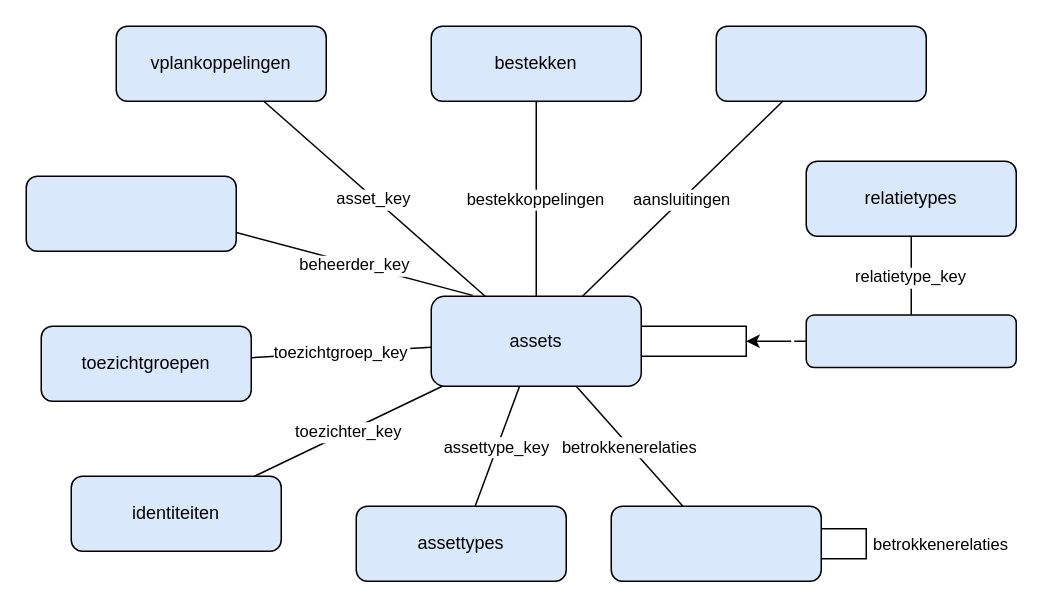
Image size: 1043x608. Some labels were removed from this diagram. The box of each missing label's shape, as (x1, y1, x2, y2) in pixels:
aansluitingrefs: (715, 25, 926, 101)
agents: (610, 505, 821, 581)
assetrelaties: (805, 314, 1016, 368)
beheerders: (25, 175, 236, 251)
